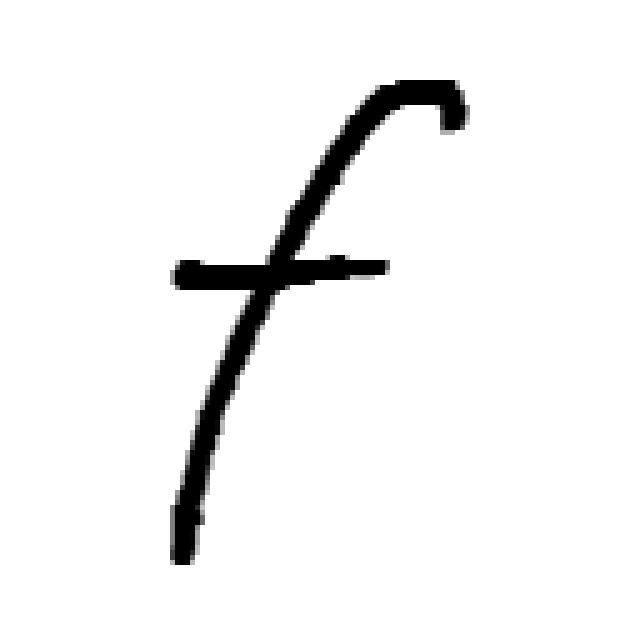F: (170, 80, 470, 565)
